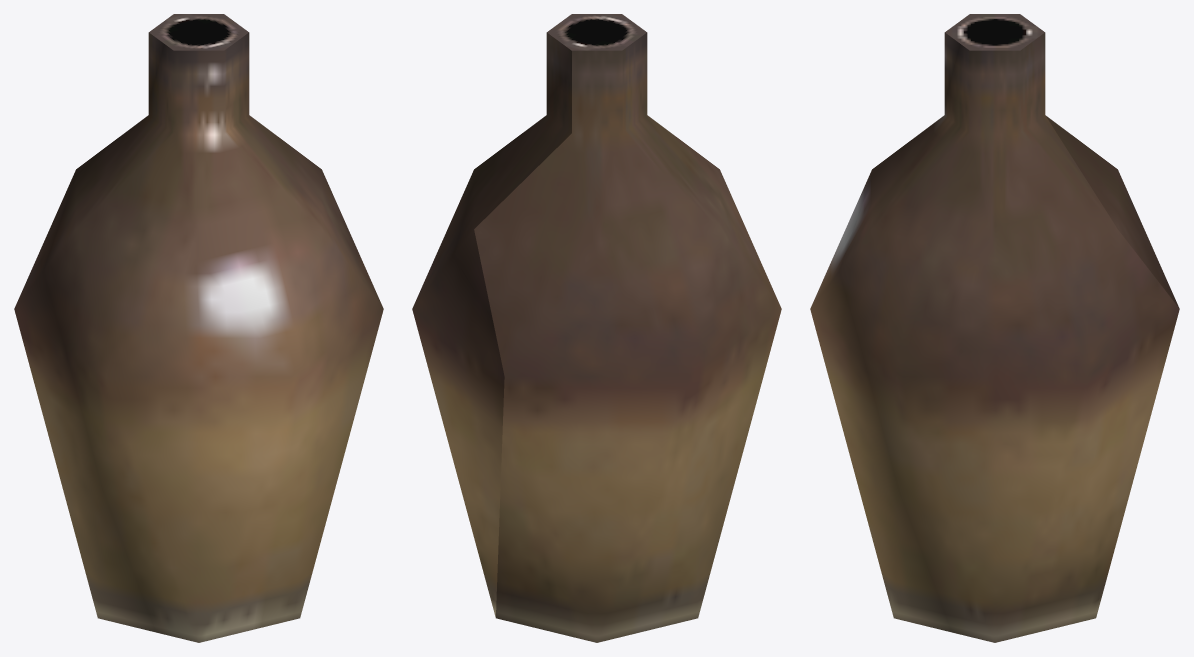
The model's file is botl1.glb.
3 renders of one model, left to right at view 1: azimuth 30°, elevation 25°; view 2: azimuth 150°, elevation 25°; view 3: azimuth 270°, elevation 25°, orthographic.
Visible parts, largest first — view 1: botl1; view 2: botl1; view 3: botl1.
Boxes of the visible parts, x1,y1,x2,y2 form: botl1: (14, 14, 383, 642); botl1: (412, 14, 781, 642); botl1: (810, 14, 1179, 642).
Bounding box in the file's own units: 0.2109 × 0.408 × 0.2435.
Materials: 1 (1 with a texture image).
